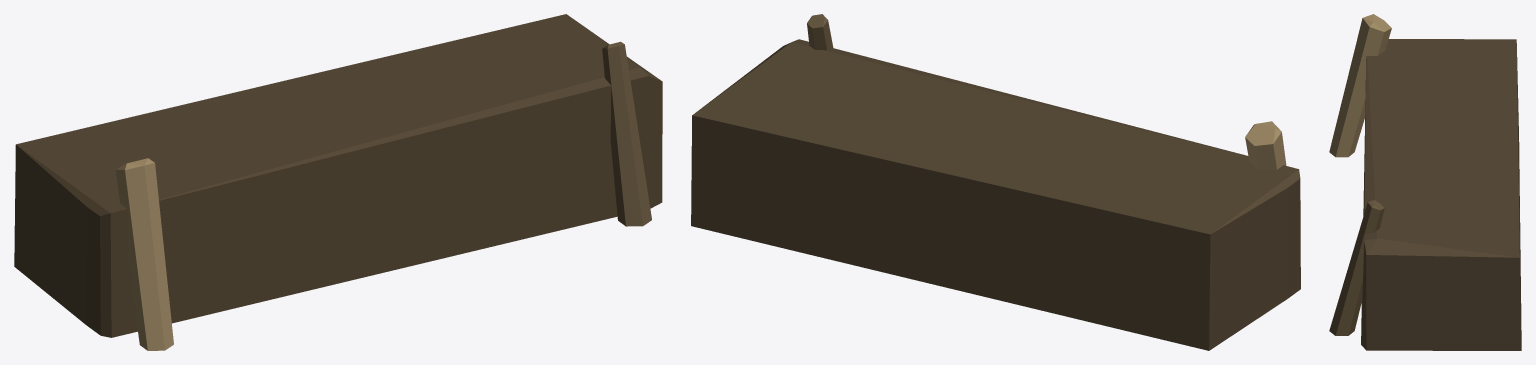
Rendered from EA03_Step_01b.glb.
3 renders of one model, left to right at view 1: azimuth 30°, elevation 25°; view 2: azimuth 150°, elevation 25°; view 3: azimuth 270°, elevation 25°, orthographic. The views are drawn at different scales.
Visible parts, largest first — view 1: EA03_Step_01b; view 2: EA03_Step_01b; view 3: EA03_Step_01b.
Part boxes in pixels (x1=…): EA03_Step_01b: x1=14, y1=14, x2=662, y2=350; EA03_Step_01b: x1=691, y1=14, x2=1300, y2=350; EA03_Step_01b: x1=1329, y1=14, x2=1521, y2=350.
Size of the model in its own units: 2.46 by 0.7167 by 0.9258.
Materials: 1 (1 with a texture image).
